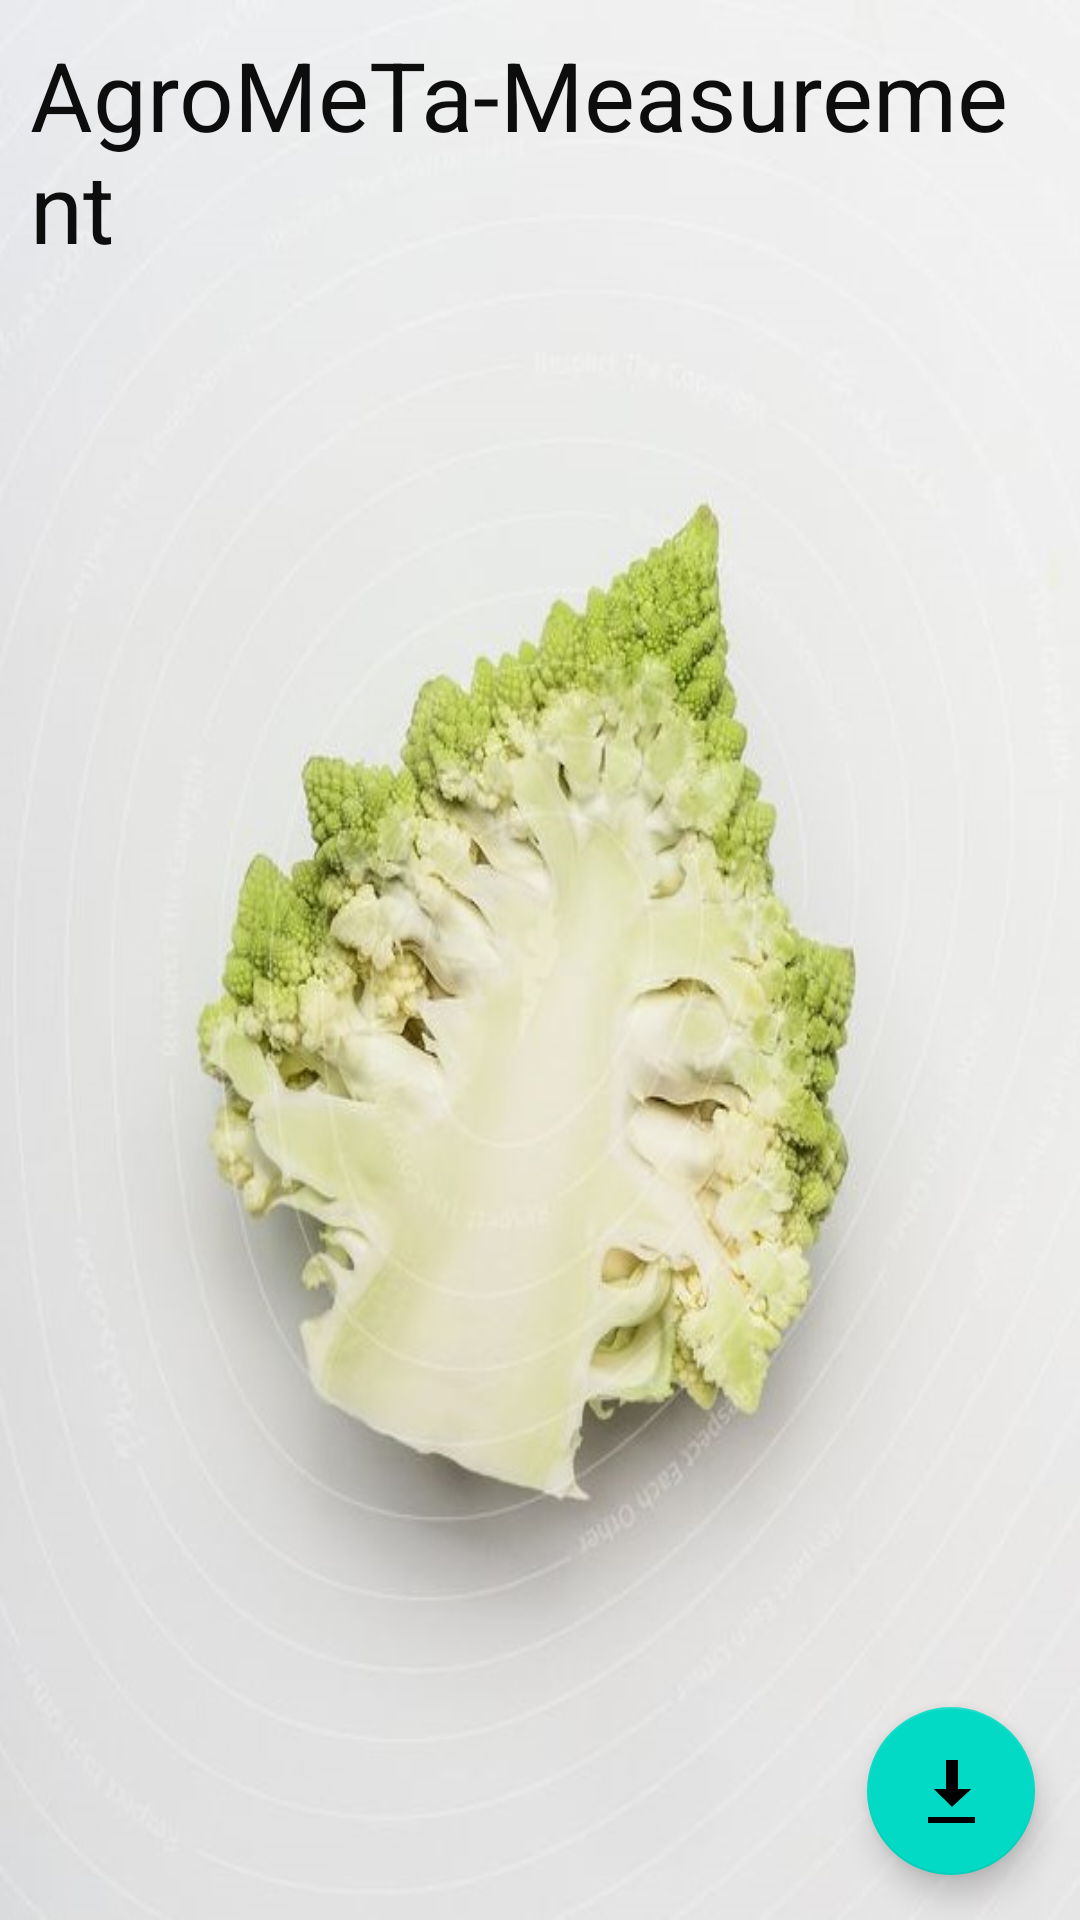

Locate icon controls on the screen. Image size 1080w x 1920h, boxes as (x1, y1, x2, y2).
download: (867, 1707, 1035, 1875)
